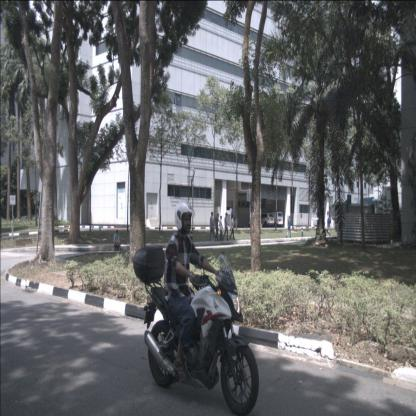human-pedestrian-adult: (222, 213, 230, 241), (209, 212, 216, 242), (218, 216, 224, 242), (114, 230, 121, 252), (214, 213, 219, 241), (286, 215, 292, 238), (230, 214, 235, 240), (327, 214, 332, 236)
vehicle-car: (268, 211, 284, 228), (258, 212, 274, 228)
vehicle-motorcycle: (132, 201, 260, 415)
